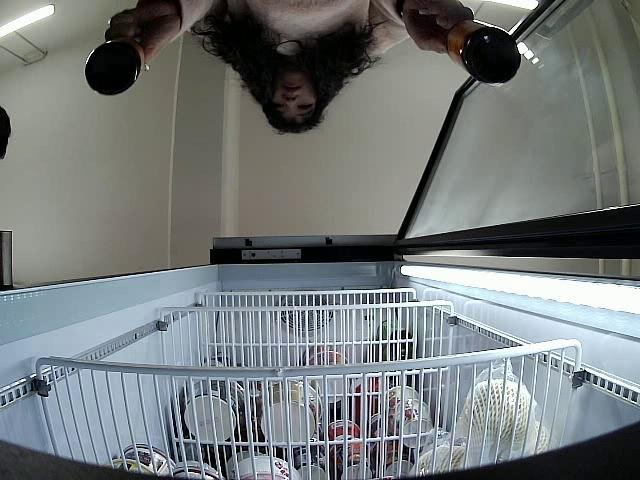17_vita500: (444, 20, 522, 88), (82, 36, 148, 98)
